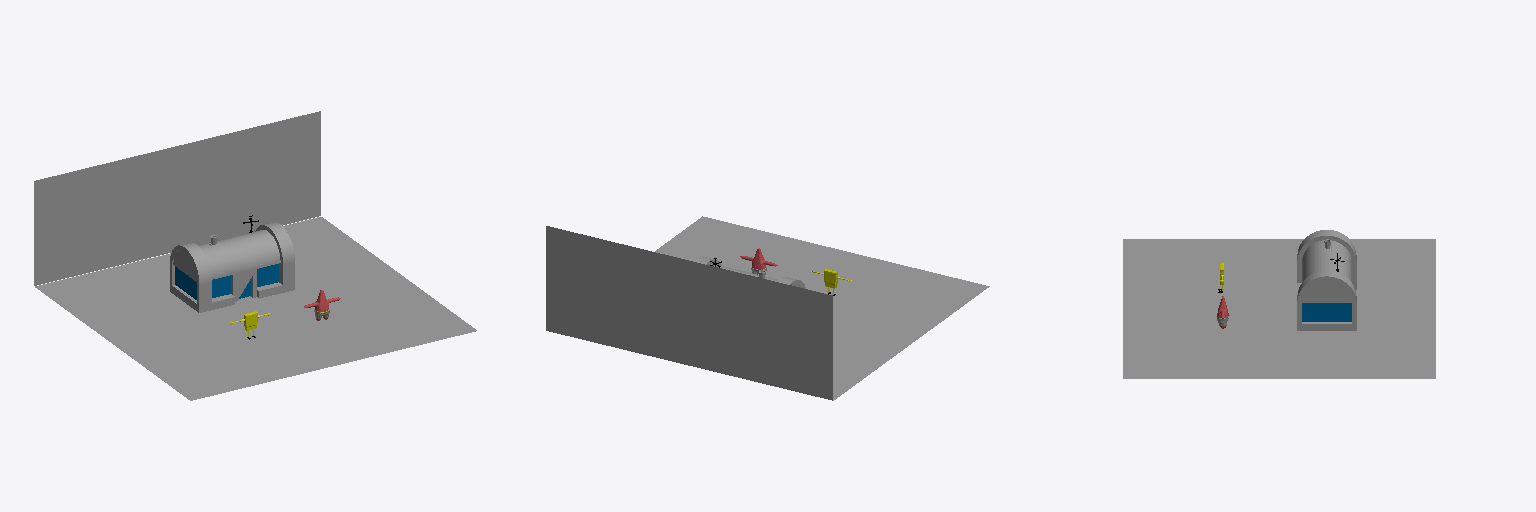
File: squarpants.obj
3 views of the same model, side by side, from view 1: azimuth 30°, elevation 25°; view 2: azimuth 150°, elevation 25°; view 3: azimuth 270°, elevation 25° (orthographic).
Visible parts, largest first — view 1: background_Plane.002, tanah_1_Plane, tanah_2_Cylinder.001, krustry_krab.001_Cylinder.003; view 2: background_Plane.002, tanah_1_Plane, tanah_2_Cylinder.001, krustry_krab.001_Cylinder.003; view 3: tanah_1_Plane, tanah_2_Cylinder.001, krustry_krab.001_Cylinder.003.
Boxes of the visible parts, <box> form: background_Plane.002: <box>34,111,320,285</box>; tanah_1_Plane: <box>35,217,476,400</box>; tanah_2_Cylinder.001: <box>118,251,347,366</box>; krustry_krab.001_Cylinder.003: <box>170,215,294,312</box>; background_Plane.002: <box>546,226,832,400</box>; tanah_1_Plane: <box>655,216,989,400</box>; tanah_2_Cylinder.001: <box>790,253,865,358</box>; krustry_krab.001_Cylinder.003: <box>694,256,805,288</box>; tanah_1_Plane: <box>1123,239,1435,378</box>; tanah_2_Cylinder.001: <box>1138,260,1423,358</box>; krustry_krab.001_Cylinder.003: <box>1297,230,1356,330</box>.
Size of the model in its own units: 24.09 by 8.44 by 22.75.